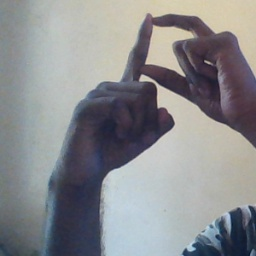D: (107, 6, 232, 130)
